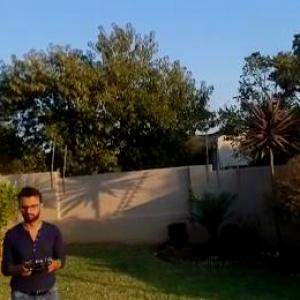follow: (1, 182, 69, 299)
